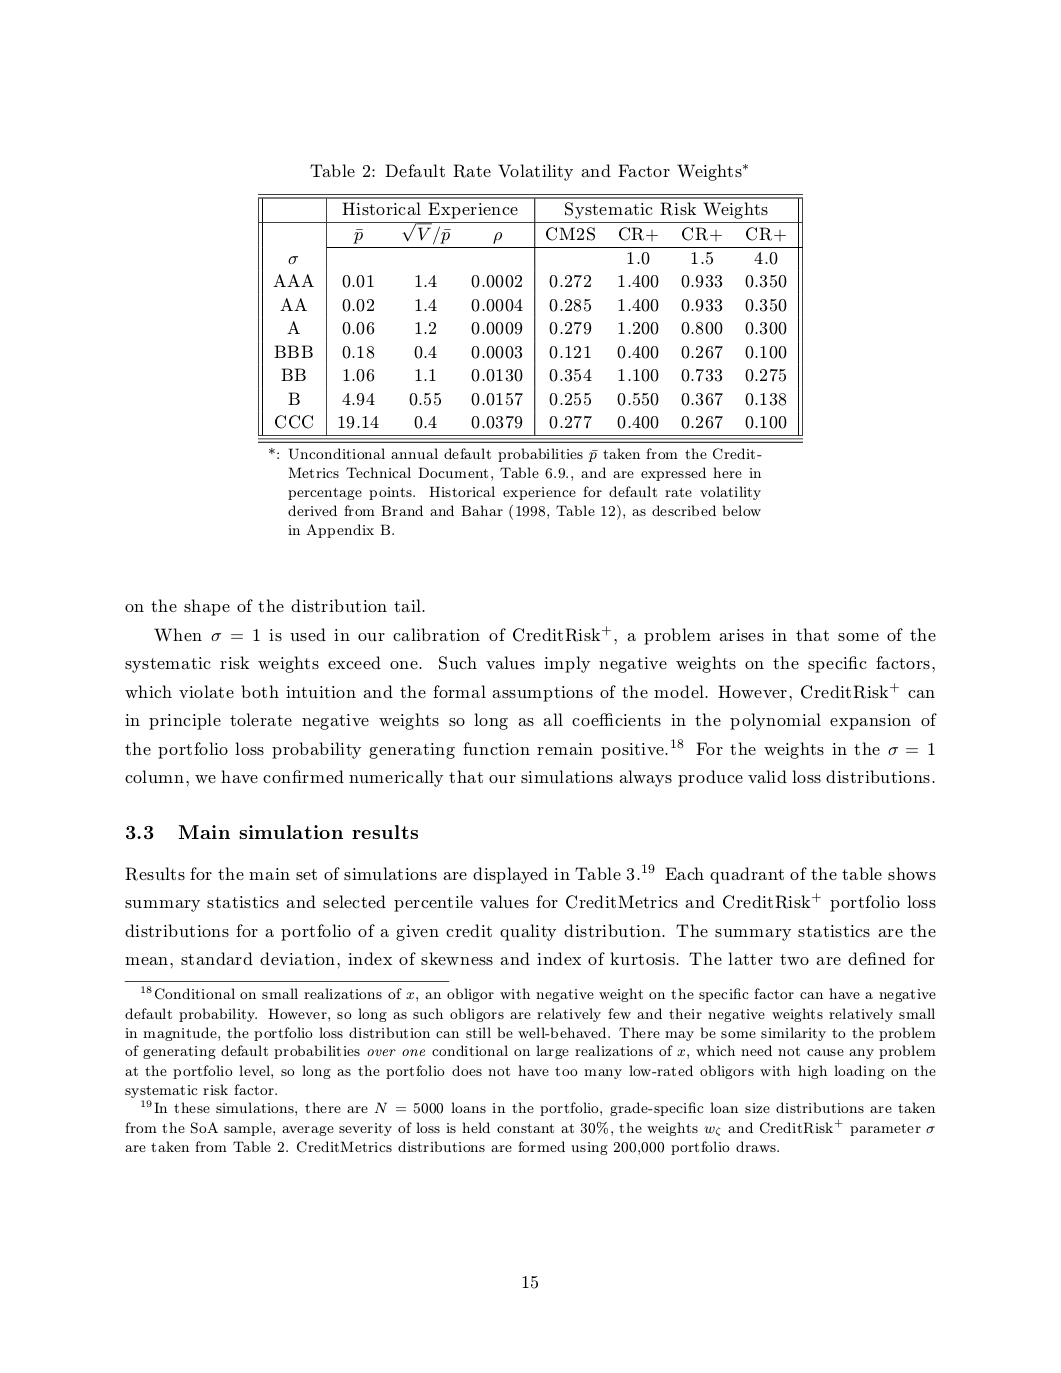Table: (257, 192, 802, 444)
